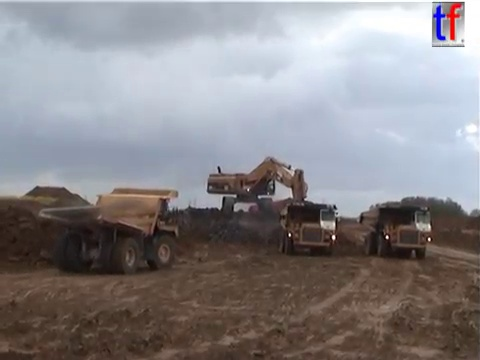excavator: (205, 154, 311, 226), (247, 196, 321, 227)
truck: (37, 186, 179, 275), (357, 202, 432, 260), (278, 201, 340, 257)
